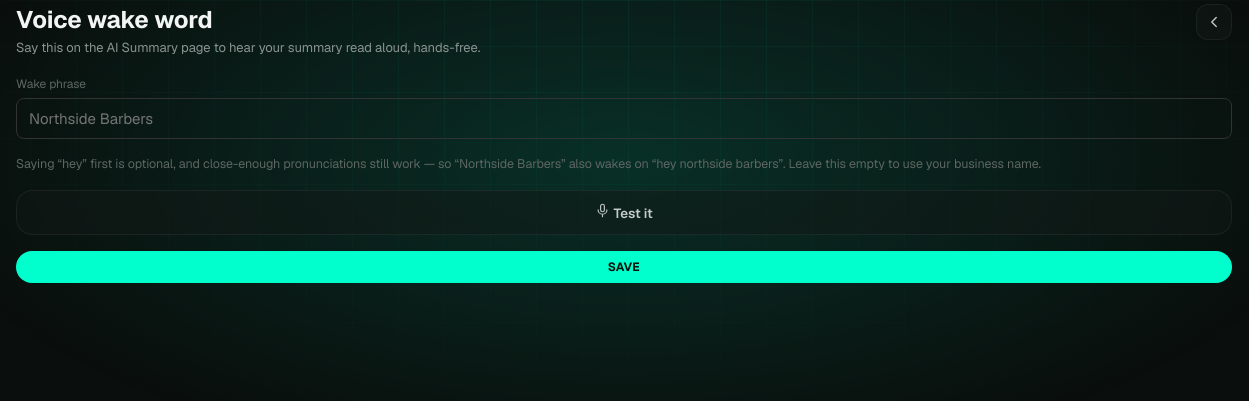
Test: WakeWordSettings › Test it › reports a hit on a clean run where the phrase is heard
Check: the field with placeholder "Northside Barbers" is shown, box [16,98,1232,139]
Step 1. Click the button "Test it" → (624, 212), box [16,190,1232,235]
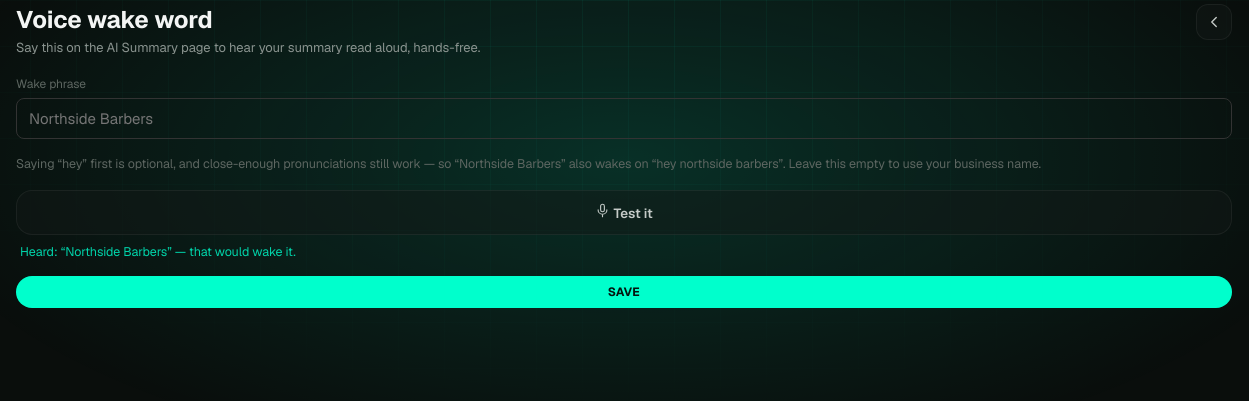
Check: the text "Heard: “Northside Barbers” — that would wake it." is shown, box [20,243,296,260]
